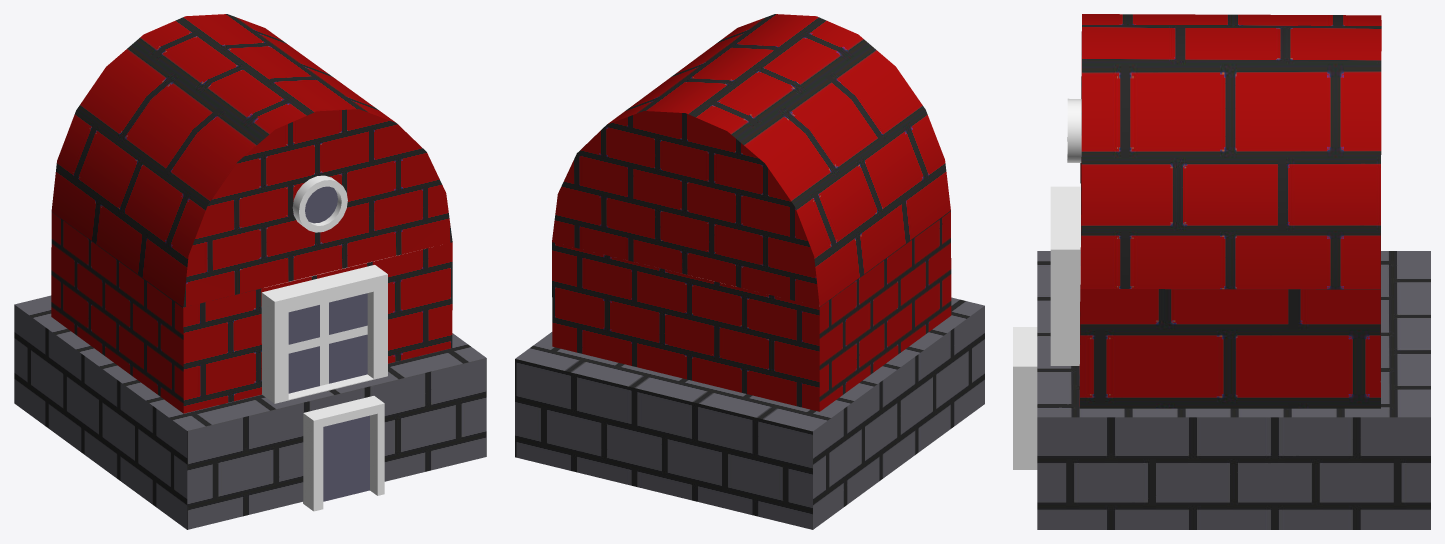
Rendered from shapes_n.fbx.
3 renders of one model, left to right at view 1: azimuth 30°, elevation 25°; view 2: azimuth 150°, elevation 25°; view 3: azimuth 270°, elevation 25°, orthographic. The views are drawn at different scales.
Visible parts, largest first — view 1: pCylinder5; view 2: pCylinder5; view 3: pCylinder5.
Boxes of the visible parts, x1=… form: pCylinder5: x1=14, y1=14, x2=486, y2=529; pCylinder5: x1=515, y1=14, x2=984, y2=529; pCylinder5: x1=1013, y1=14, x2=1430, y2=529.
Size of the model in its own units: 9.91 by 11.7 by 10.52.
1 material, 1 textured.
